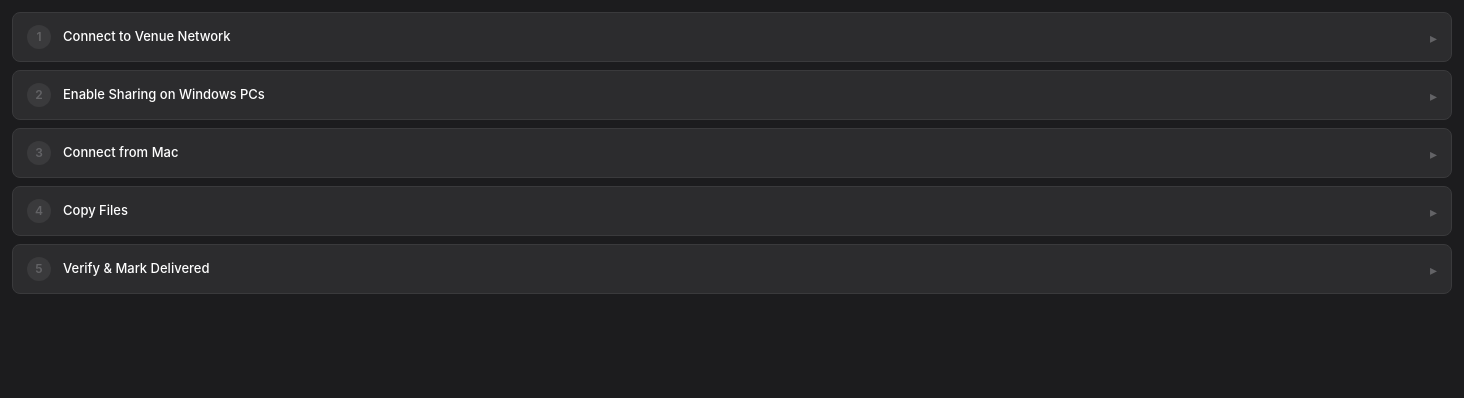
Test: expands a step when clicked to show details
This screenshot has width=1464, height=398.
Click the text "Connect to Venue Network" at (147, 36), box [63,28,231,44]
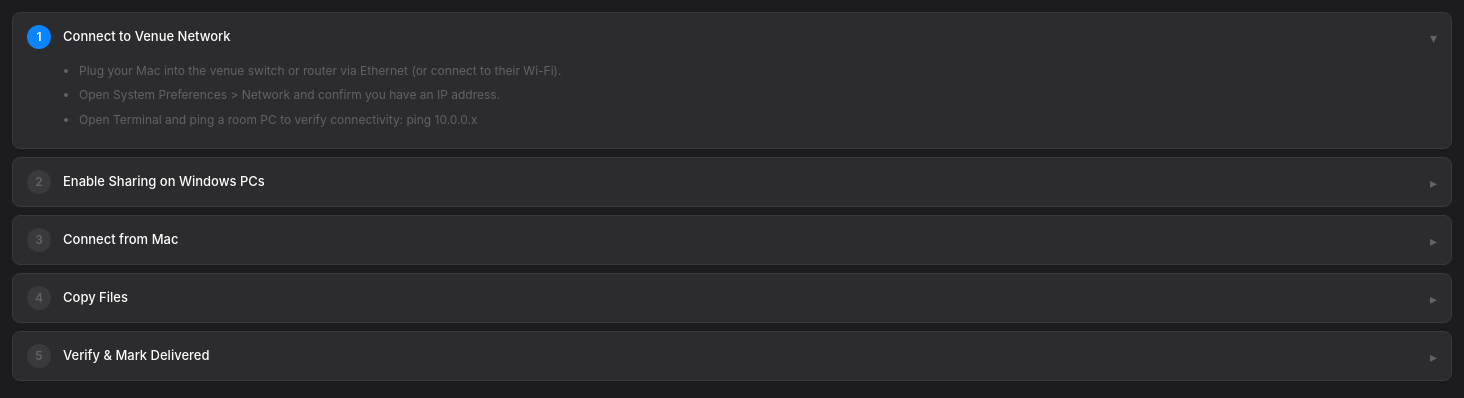
Expected: the list item "System Preferences" is shown, [79,87,500,102]
